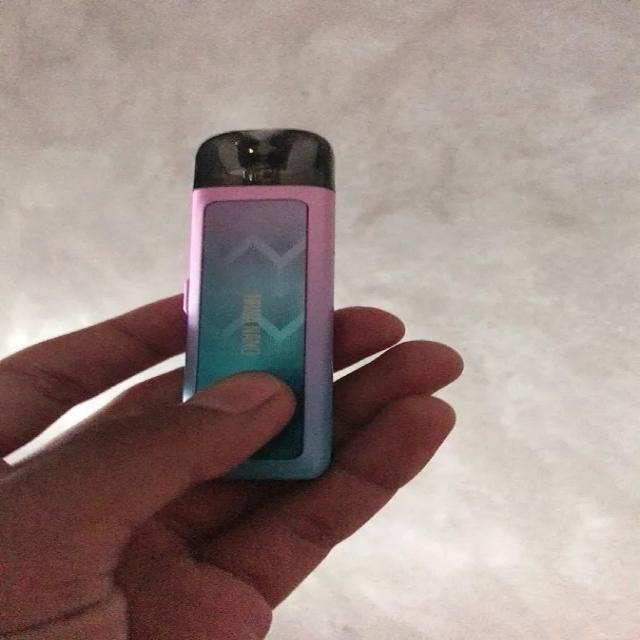Hazard: (185, 129, 338, 480)
